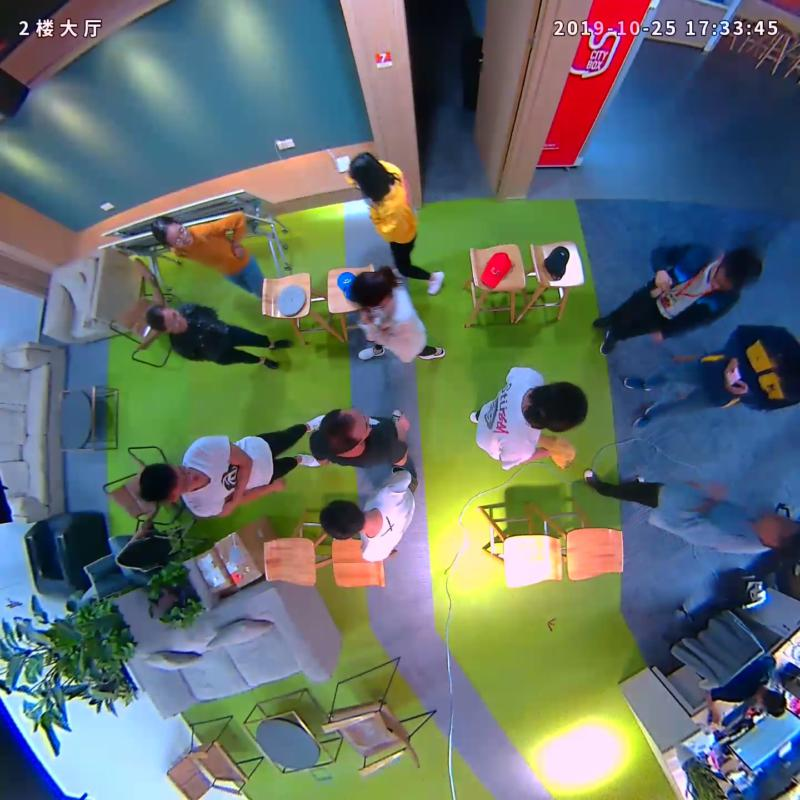head: (532, 382, 589, 431), (138, 462, 201, 503), (711, 248, 762, 293), (320, 409, 371, 451), (320, 500, 367, 540), (755, 512, 800, 551), (349, 269, 392, 308), (151, 215, 193, 250), (346, 153, 380, 191), (147, 303, 188, 334)
